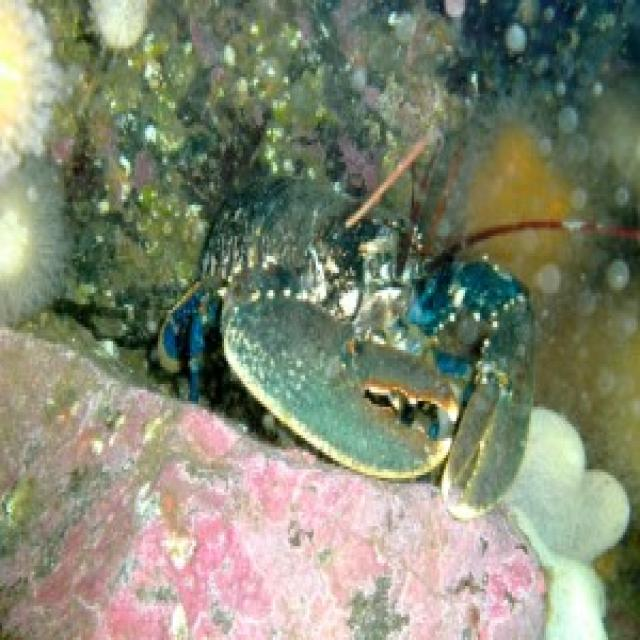lobsters: (171, 63, 569, 524)
